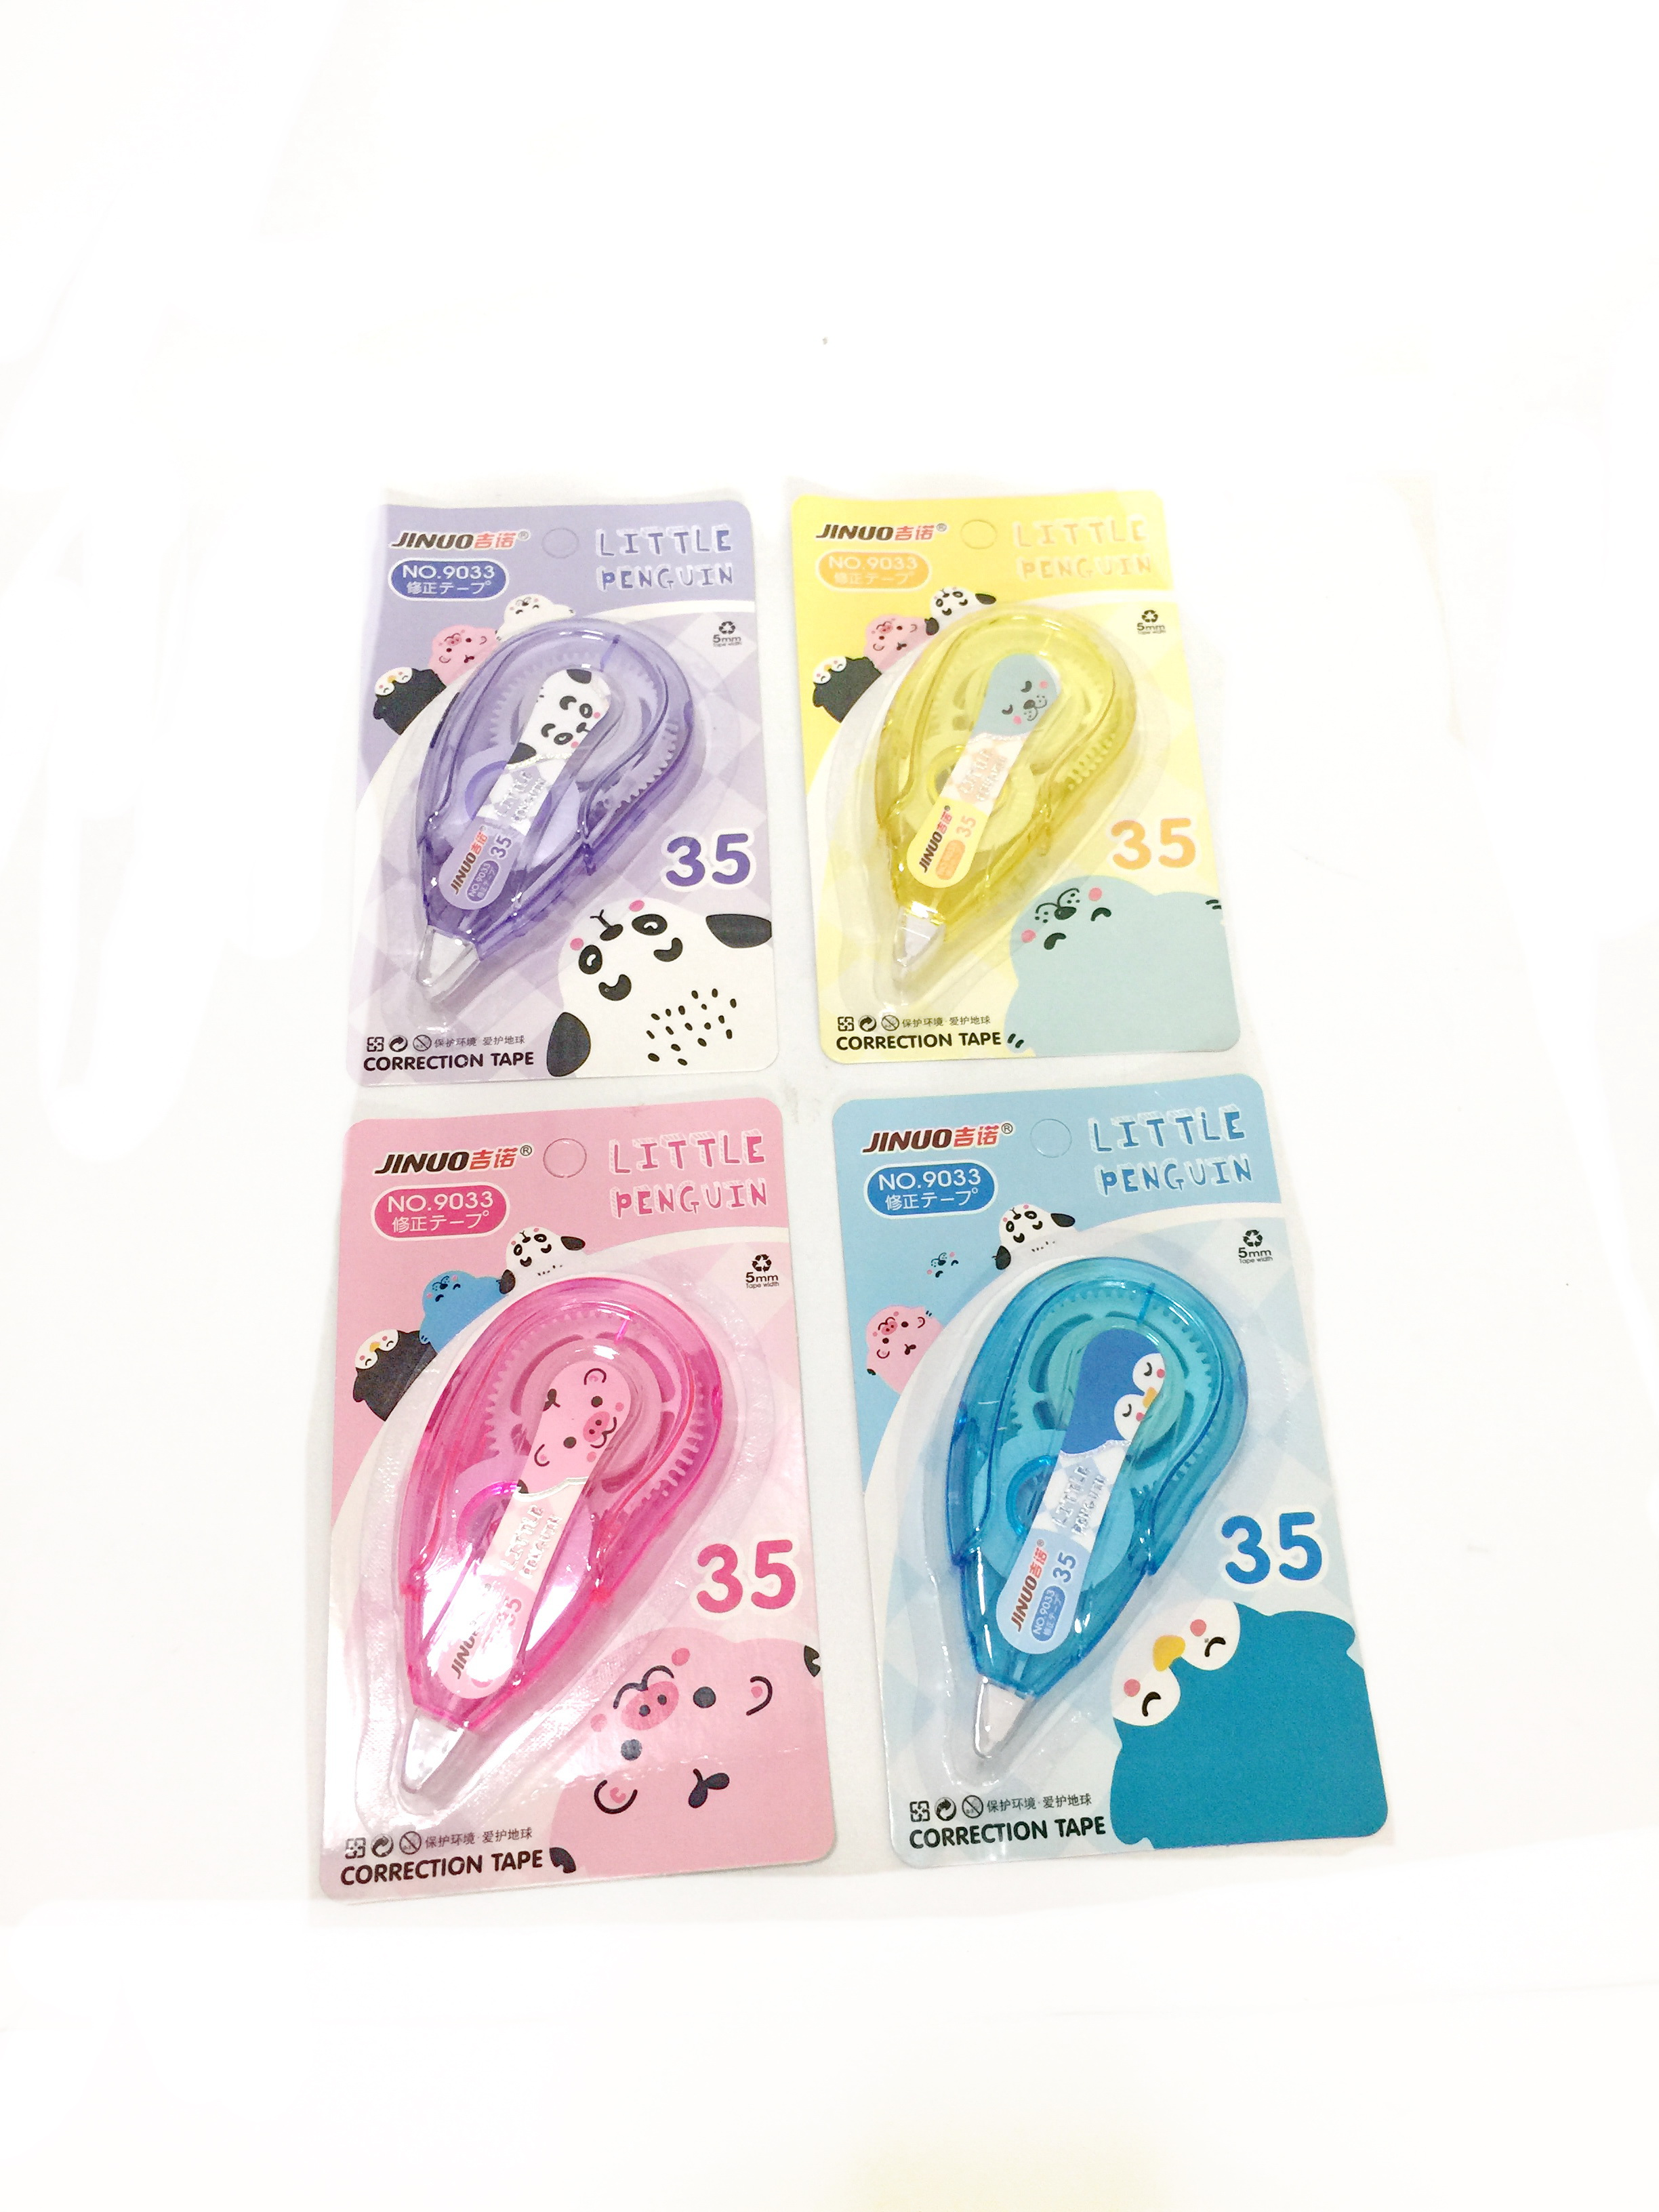Correction_fluid: (366, 1270, 751, 1827), (901, 1252, 1251, 1784), (833, 573, 1150, 1033), (408, 592, 702, 1017)
